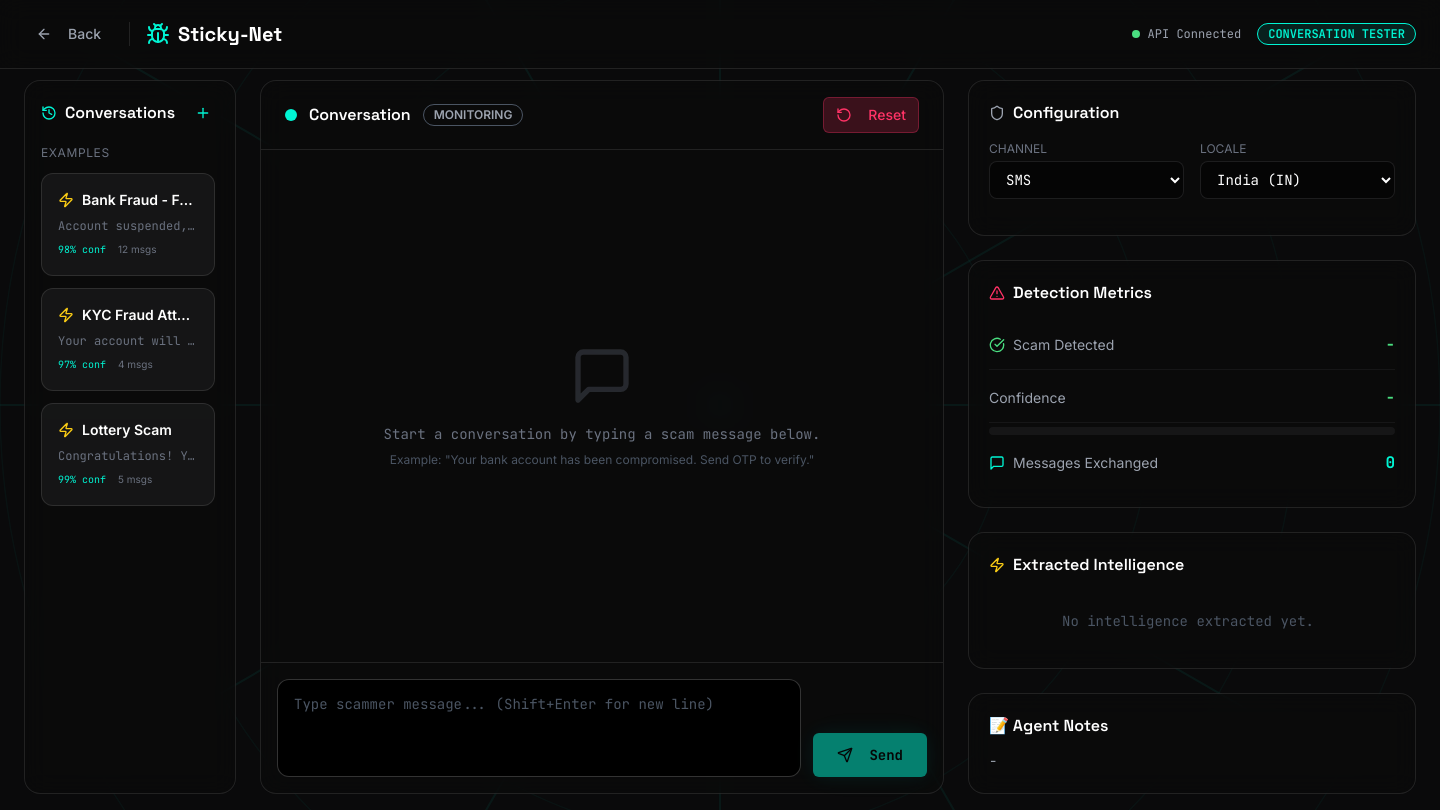
Test case: ChatDashboard › starts an empty chat from the New conversation button
Check: the text "API Connected" is shown, box [1148, 26, 1241, 42]
Type "hello" into the text box with placeholder "Type scammer message... (Shift+Enter for new line)" at (539, 728), box [277, 679, 801, 777]
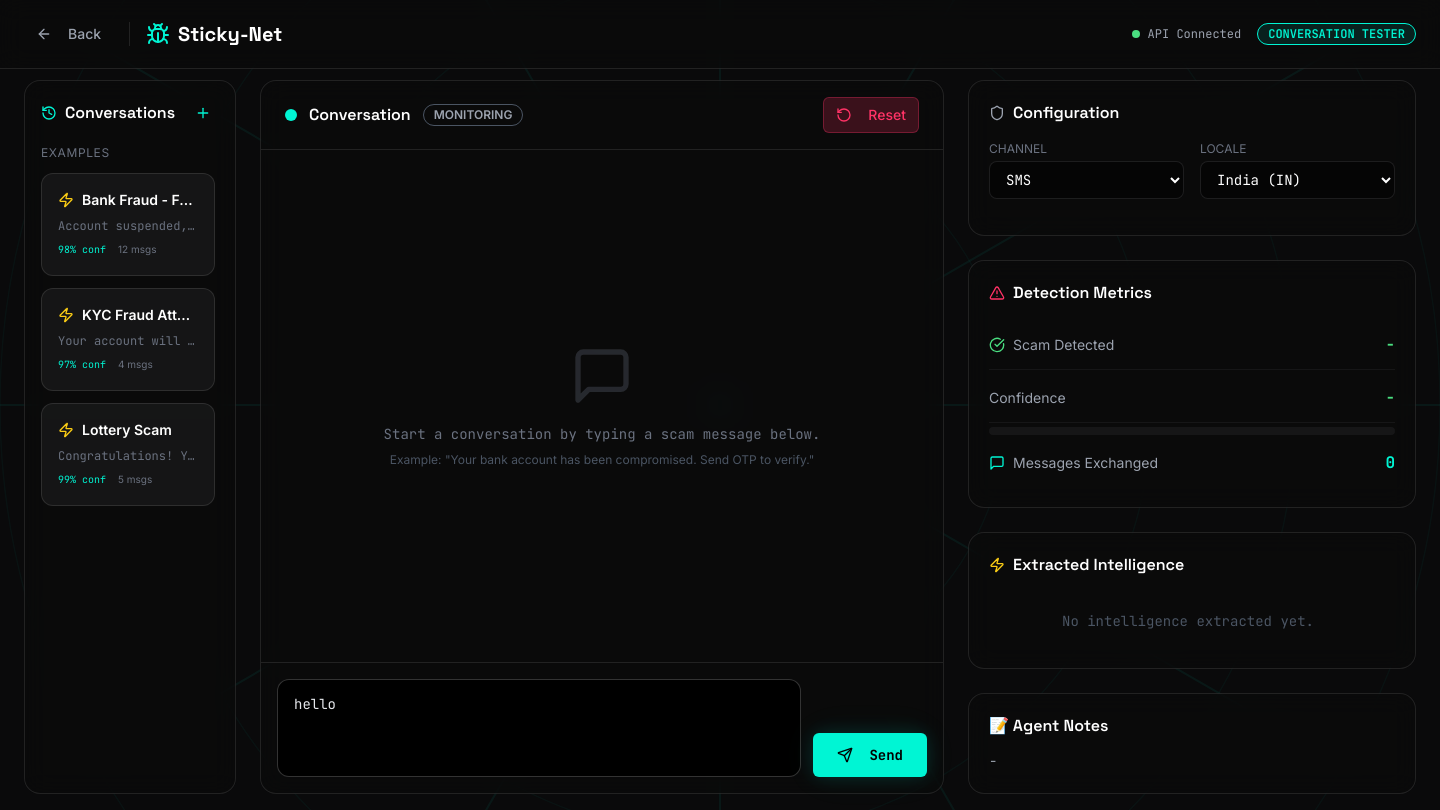
Click the button "Send" at (870, 755), box [813, 733, 927, 777]
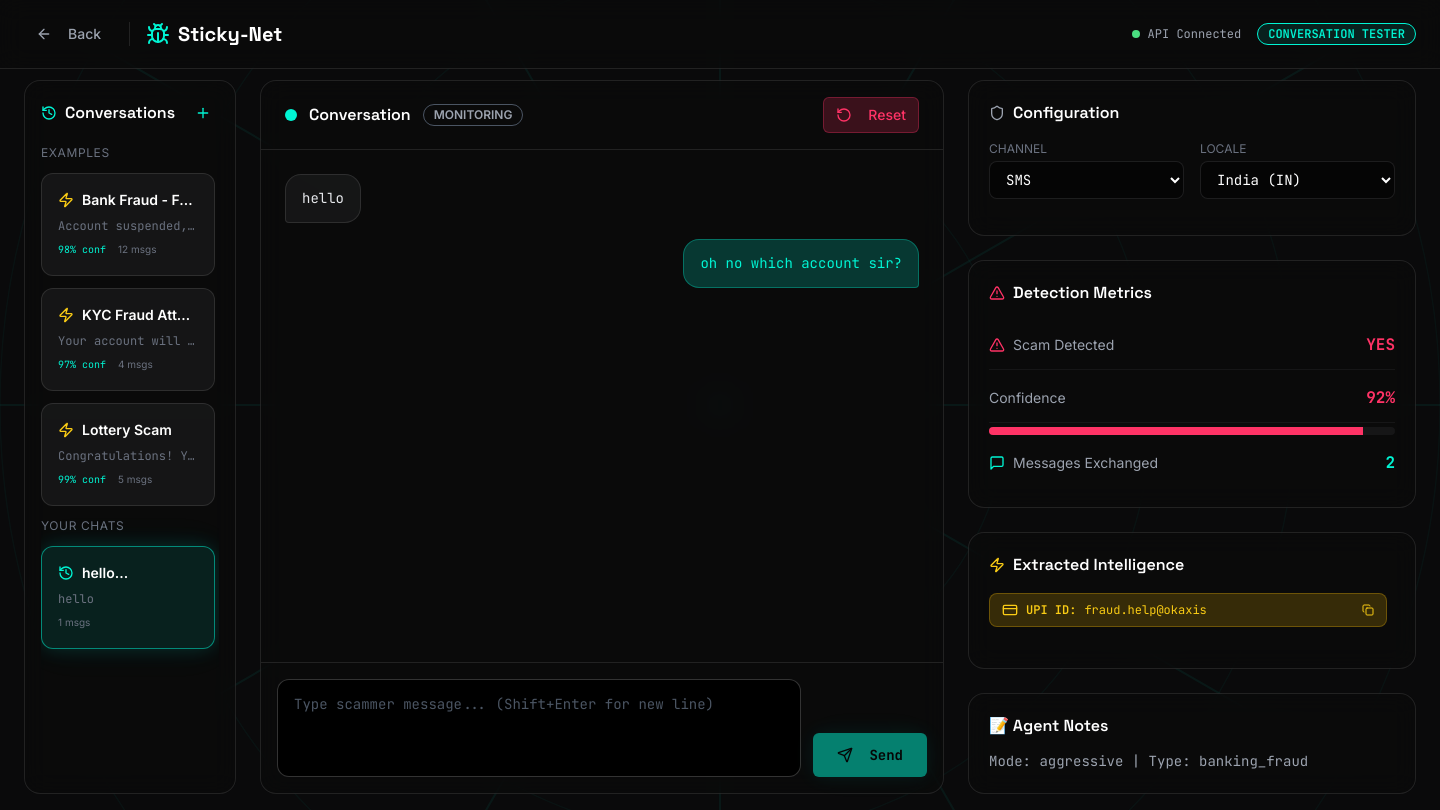
Check: the text "oh no which account sir?" is shown, box [700, 252, 902, 275]
Click the button named "New conversation" at (203, 113), box [187, 97, 219, 129]
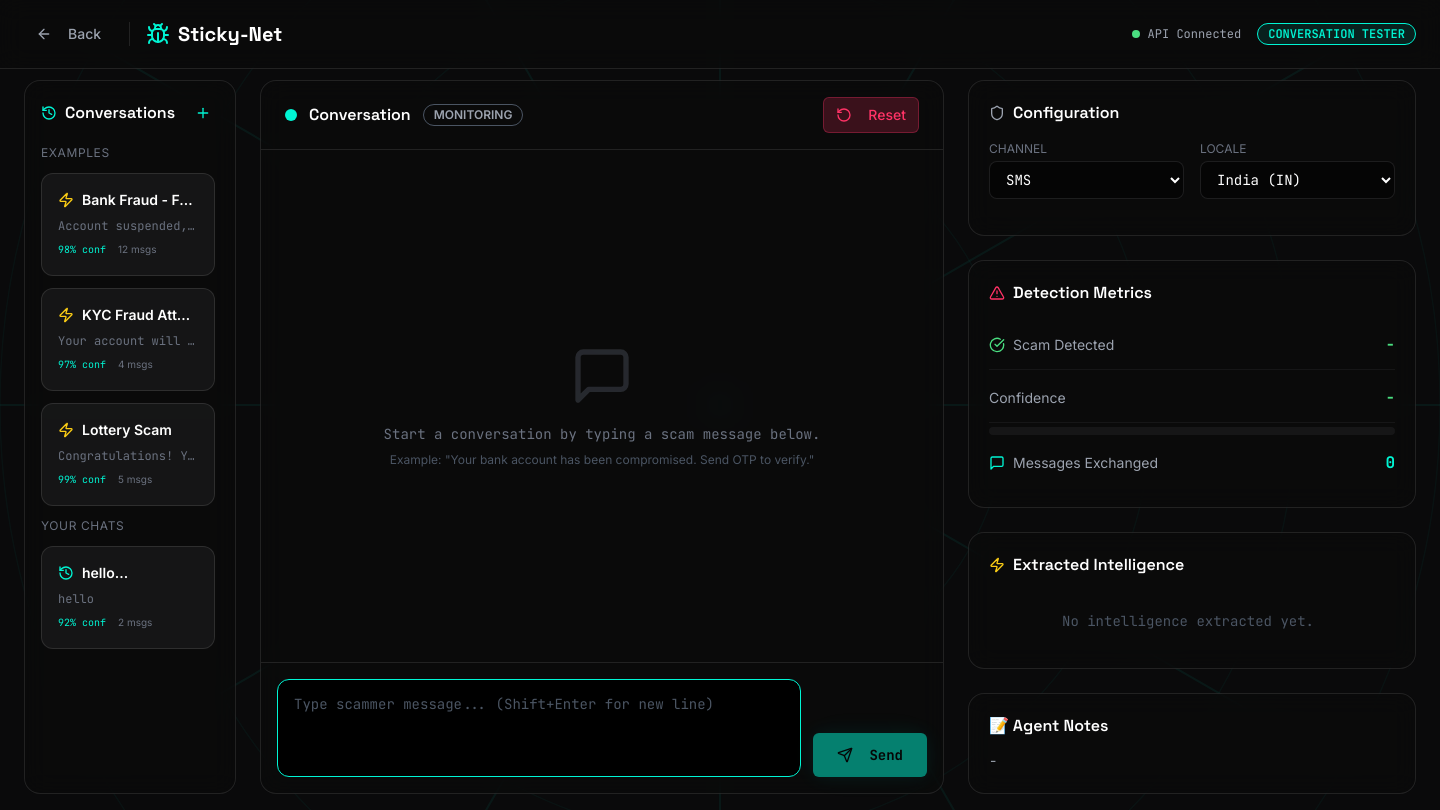
Check: the text "Start a conversation by typing a scam message below." is shown, box [384, 424, 820, 444]
